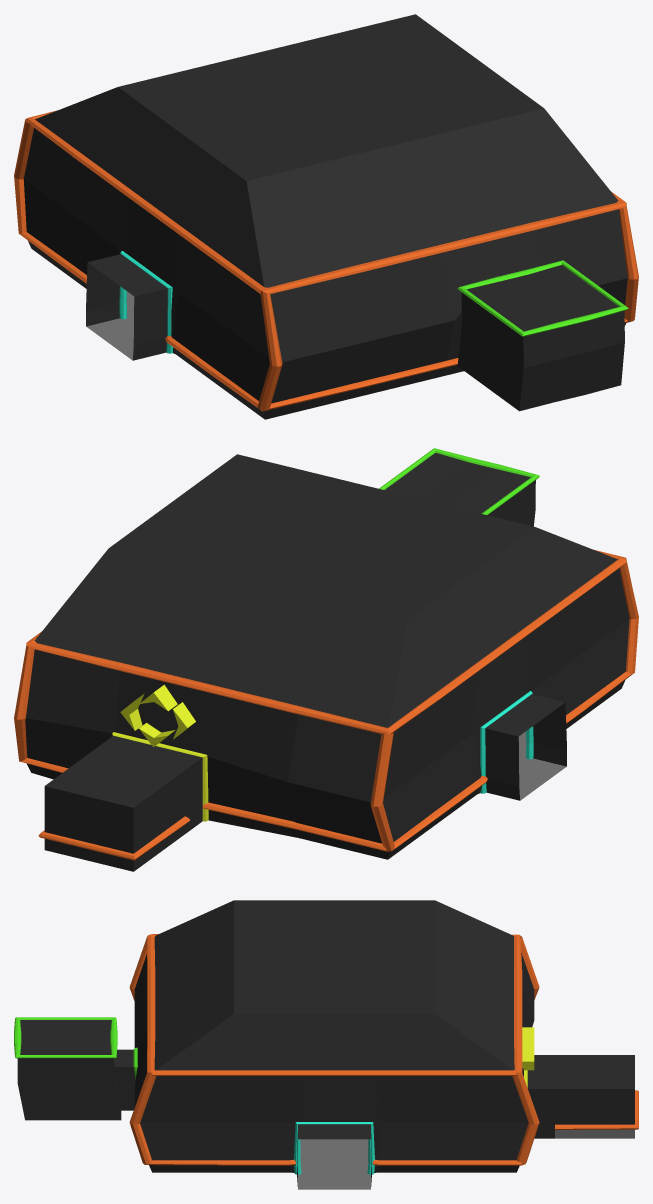
Rendered from Trial3.fbx.
3 renders of one model, top to bottom at view 1: azimuth 30°, elevation 25°; view 2: azimuth 150°, elevation 25°; view 3: azimuth 270°, elevation 25°, orthographic. The views are drawn at different scales.
Parts seen in each view (by area): view 1: Base, BaseLights, BaseLights_chiproom, Enterances; view 2: Base, BaseLights, Enterances, BaseLights_chiproom; view 3: Base, BaseLights, BaseLights_chiproom, Enterances.
Boxes of the visible parts, x1,y1,x2,y2 form: Base: (23,14,627,419); BaseLights: (14,110,638,411); BaseLights_chiproom: (457,260,628,336); Enterances: (119,251,173,353); Base: (25,452,629,871); BaseLights: (14,550,638,860); Enterances: (112,691,533,821); BaseLights_chiproom: (379,448,539,515); Base: (17,900,634,1189); BaseLights: (129,934,638,1165); BaseLights_chiproom: (14,1017,117,1058); Enterances: (294,1070,527,1174).
Bounding box in the file's own units: 10004 × 4304 × 15771.
